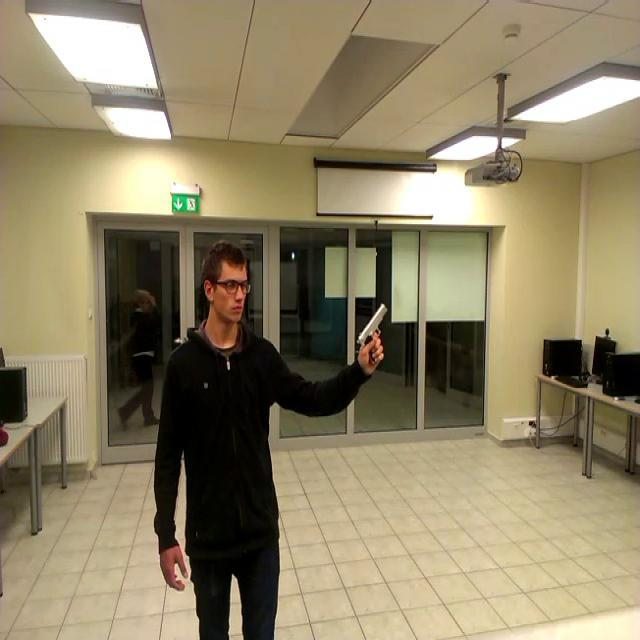Gun: (358, 302, 388, 364)
